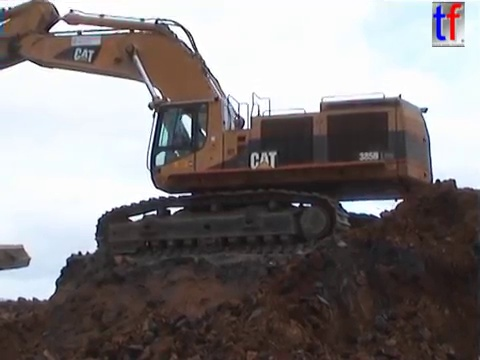excavator: (1, 1, 439, 266)
truck: (1, 242, 33, 273)
